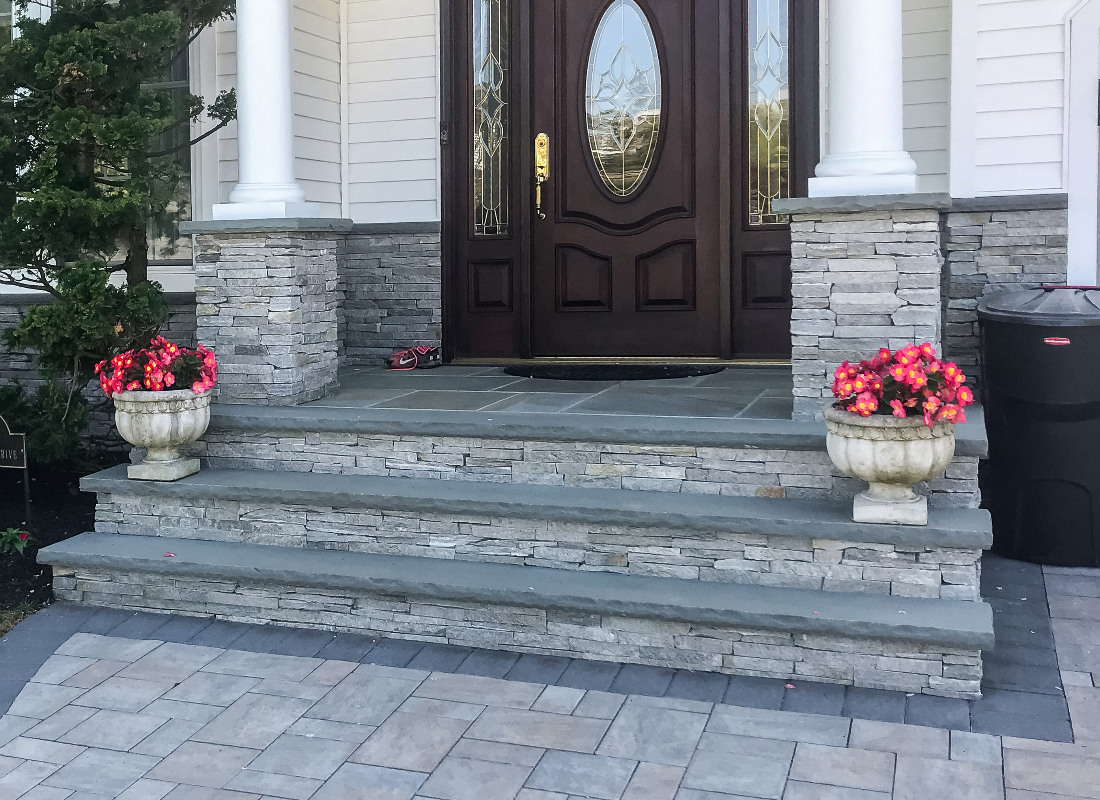upstairs: (225, 405, 790, 709)
